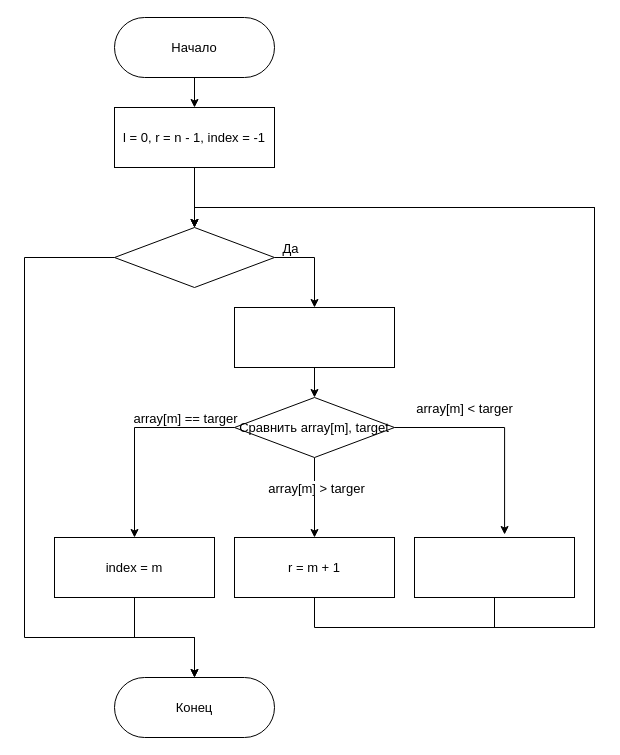
The diagram is 620 pixels wide and 755 high, and some of its shapes have lost their labels. The centre of each missing label's shape, as x and y in pixels:
"l <= r" goes at point (194, 257).
"l = m + 1" goes at point (494, 567).
"m = l + (r - l) / 2" goes at point (314, 337).
